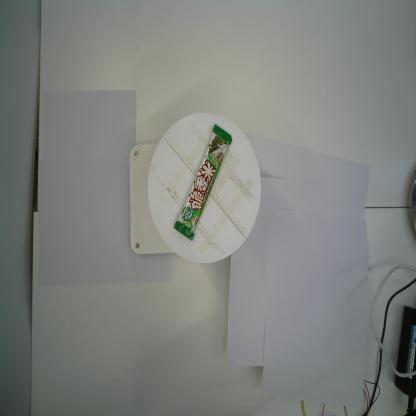Chocolate: (171, 124, 233, 244)
